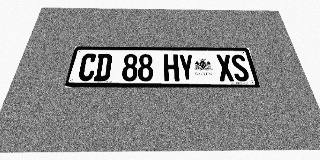8: (121, 54, 138, 81), (137, 54, 153, 81)
C: (77, 54, 98, 81)
D: (93, 54, 112, 81)
H: (164, 54, 179, 81)
S: (230, 54, 251, 81)
X: (215, 54, 235, 81)
Y: (178, 54, 195, 81)
